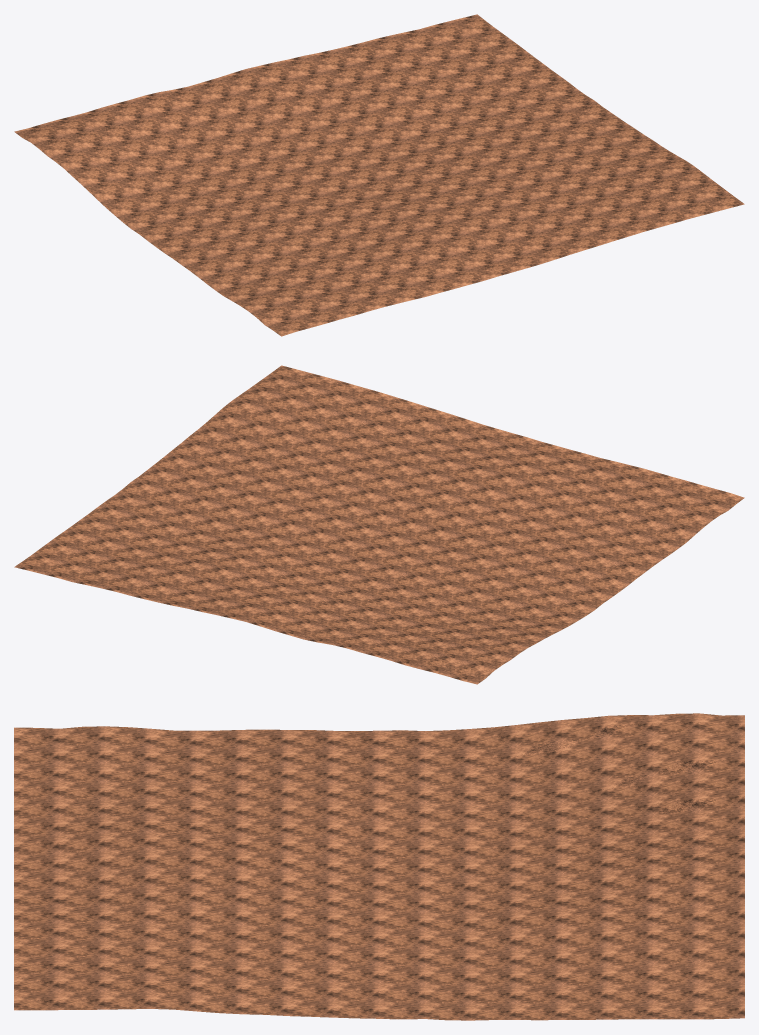
Rendered from terrain_12_21.dae.
The picture shows the model from 3 angles, top to bottom: view 1: azimuth 30°, elevation 25°; view 2: azimuth 150°, elevation 25°; view 3: azimuth 270°, elevation 25°; orthographic projection. The views are drawn at different scales.
Parts seen in each view (by area): view 1: terrain_12_21-node; view 2: terrain_12_21-node; view 3: terrain_12_21-node.
Boxes of the visible parts, x1,y1,x2,y2 form: terrain_12_21-node: [14, 14, 744, 336]; terrain_12_21-node: [14, 365, 744, 684]; terrain_12_21-node: [14, 713, 744, 1020].
Size of the model in its own units: 128 by 128 by 6.01.
Materials: 1 (1 with a texture image).
